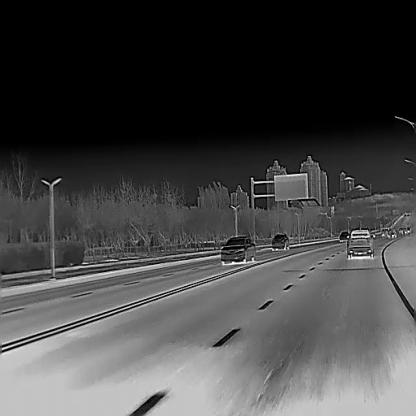car: (220, 235, 255, 263), (347, 226, 375, 257), (271, 232, 289, 249), (338, 231, 348, 240), (388, 228, 396, 236), (381, 228, 388, 236)
